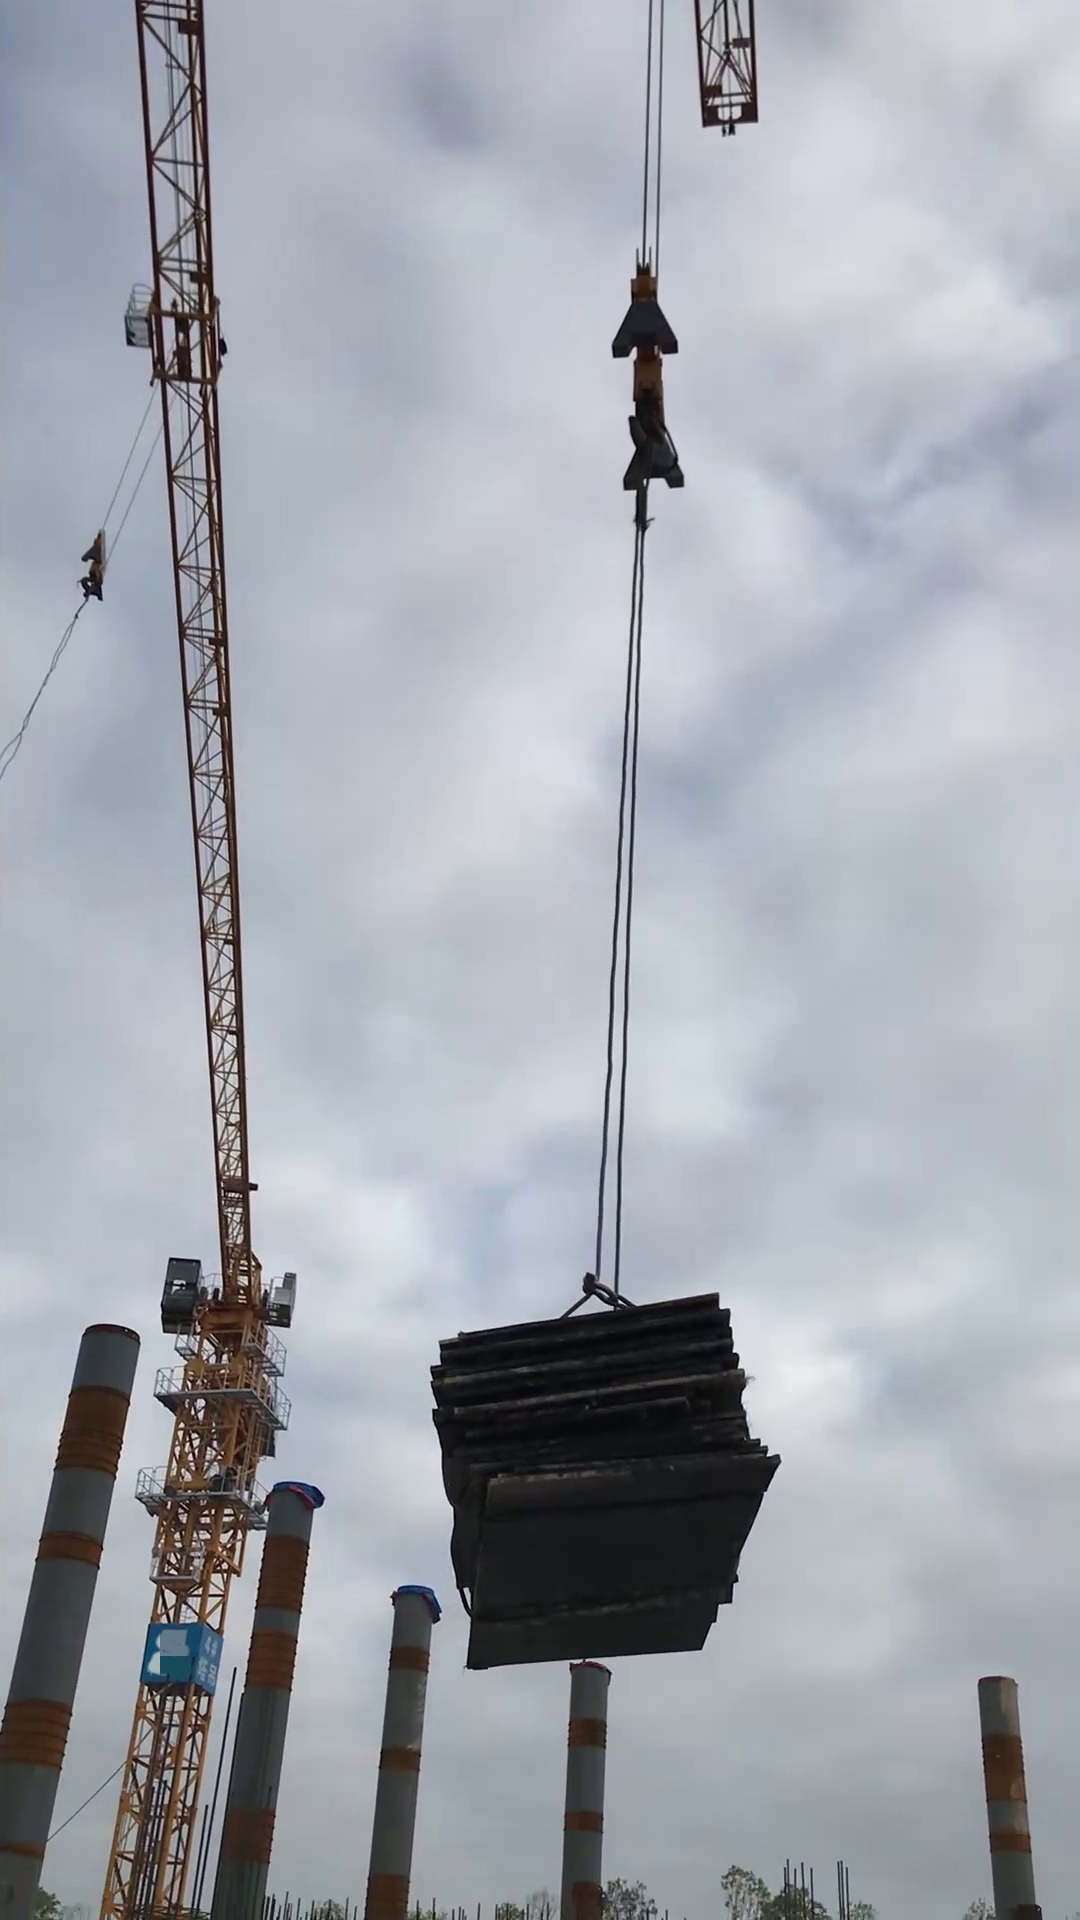board: (418, 1279, 793, 1684)
hook: (597, 248, 704, 517), (83, 520, 116, 601)
